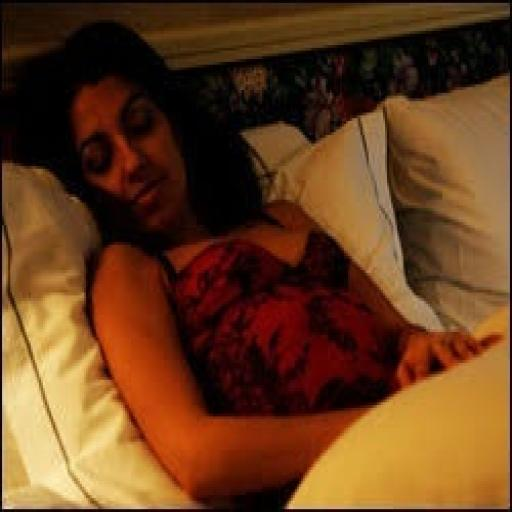sleeping: (20, 17, 504, 498)
